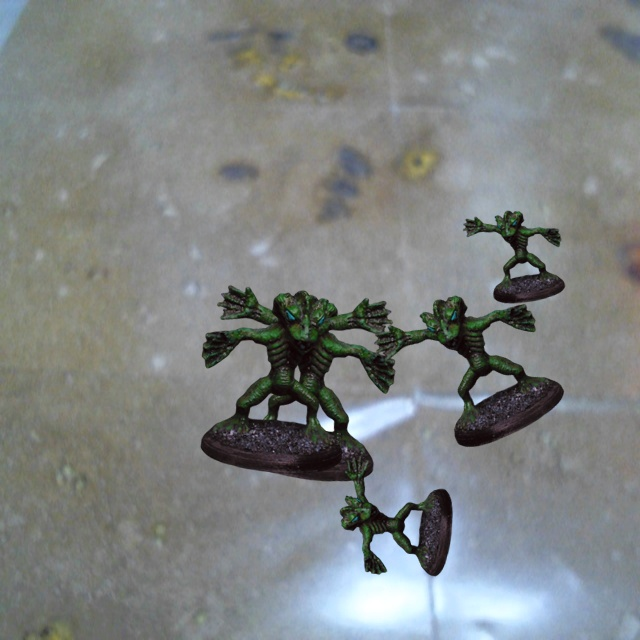pieza_juego: (200, 290, 392, 472), (217, 285, 395, 481), (374, 295, 563, 446), (340, 456, 452, 575), (463, 211, 564, 303)
